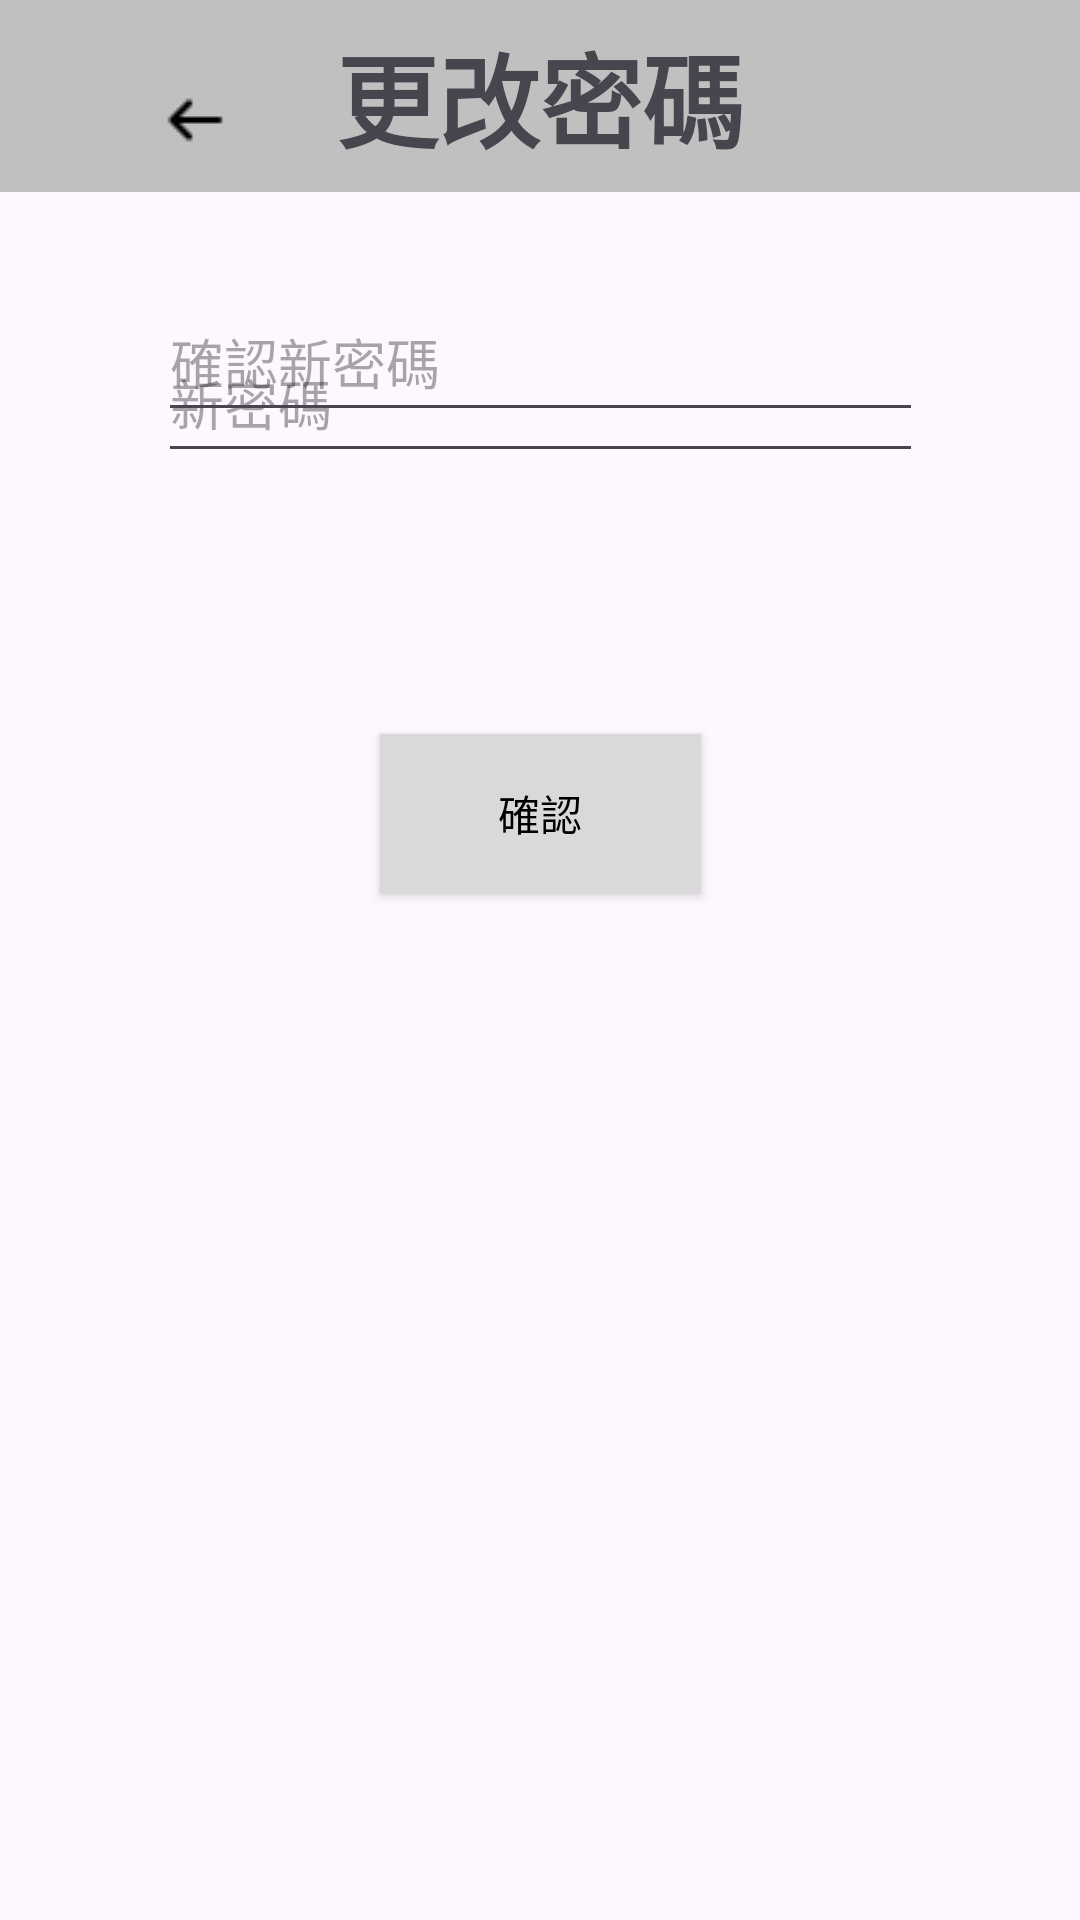

Icons on this 1080x1920 Android screen, each with the point to tap as (x=x, y=y):
arrow left: (x=195, y=120)
